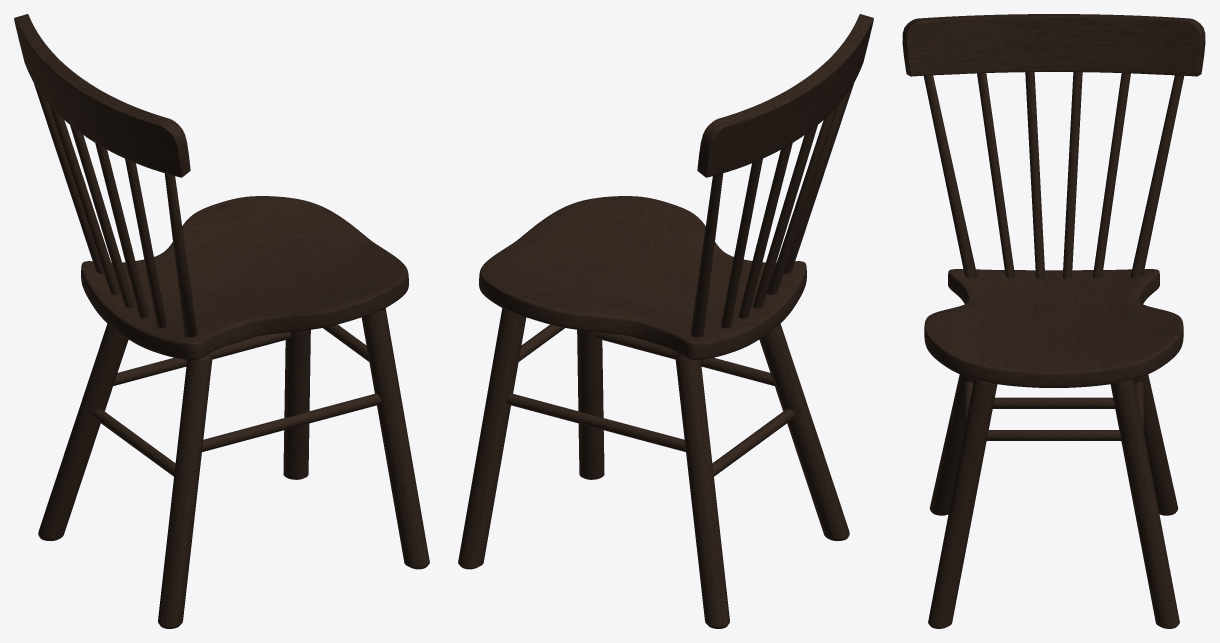
The model's file is wooden_chair.fbx.
3 renders of one model, left to right at view 1: azimuth 30°, elevation 25°; view 2: azimuth 150°, elevation 25°; view 3: azimuth 270°, elevation 25°, orthographic. The views are drawn at different scales.
Visible parts, largest first — view 1: Cube, Cylinder.001, Cylinder.002, Cube.003, Cylinder.003, Cylinder.009, Cylinder.008, Cylinder.006, Cylinder.005, Cylinder.004; view 2: Cube, Cylinder.001, Cylinder.002, Cube.003, Cylinder.003, Cylinder.009, Cylinder.008, Cylinder.006, Cylinder.005, Cylinder.004; view 3: Cube, Cube.003, Cylinder.002, Cylinder.006, Cylinder.001, Cylinder.008, Cylinder.009, Cylinder.004, Cylinder.005, Cylinder.003.
Boxes of the visible parts, x1,y1,x2,y2 form: Cube: (81,196,408,359); Cylinder.001: (38,323,212,628); Cylinder.002: (283,308,429,569); Cube.003: (14,14,190,177); Cylinder.003: (113,332,381,451); Cylinder.009: (70,125,149,318); Cylinder.008: (49,104,166,328); Cylinder.006: (33,82,197,337); Cylinder.005: (93,409,175,476); Cylinder.004: (323,324,369,361); Cube: (479,196,806,359); Cylinder.001: (675,323,849,628); Cylinder.002: (458,308,604,569); Cube.003: (697,14,873,177); Cylinder.003: (506,332,774,451); Cylinder.009: (738,125,817,318); Cylinder.008: (721,104,838,328); Cylinder.006: (690,82,854,337); Cylinder.005: (712,409,794,476); Cylinder.004: (518,324,564,361); Cube: (924,269,1183,387); Cube.003: (902,14,1205,76); Cylinder.002: (928,379,1179,628); Cylinder.006: (923,75,1184,278); Cylinder.001: (929,374,1178,515); Cylinder.008: (977,73,1130,278); Cylinder.009: (1025,72,1082,278); Cylinder.004: (986,430,1121,440); Cylinder.005: (992,397,1115,408); Cylinder.003: (964,381,1143,431).
Size of the model in its own units: 51.95 by 83.84 by 47.38.
1 material, 1 textured.
